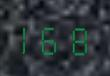eight: (67, 20, 90, 56)
one: (18, 19, 41, 55)
six: (43, 19, 66, 56)
